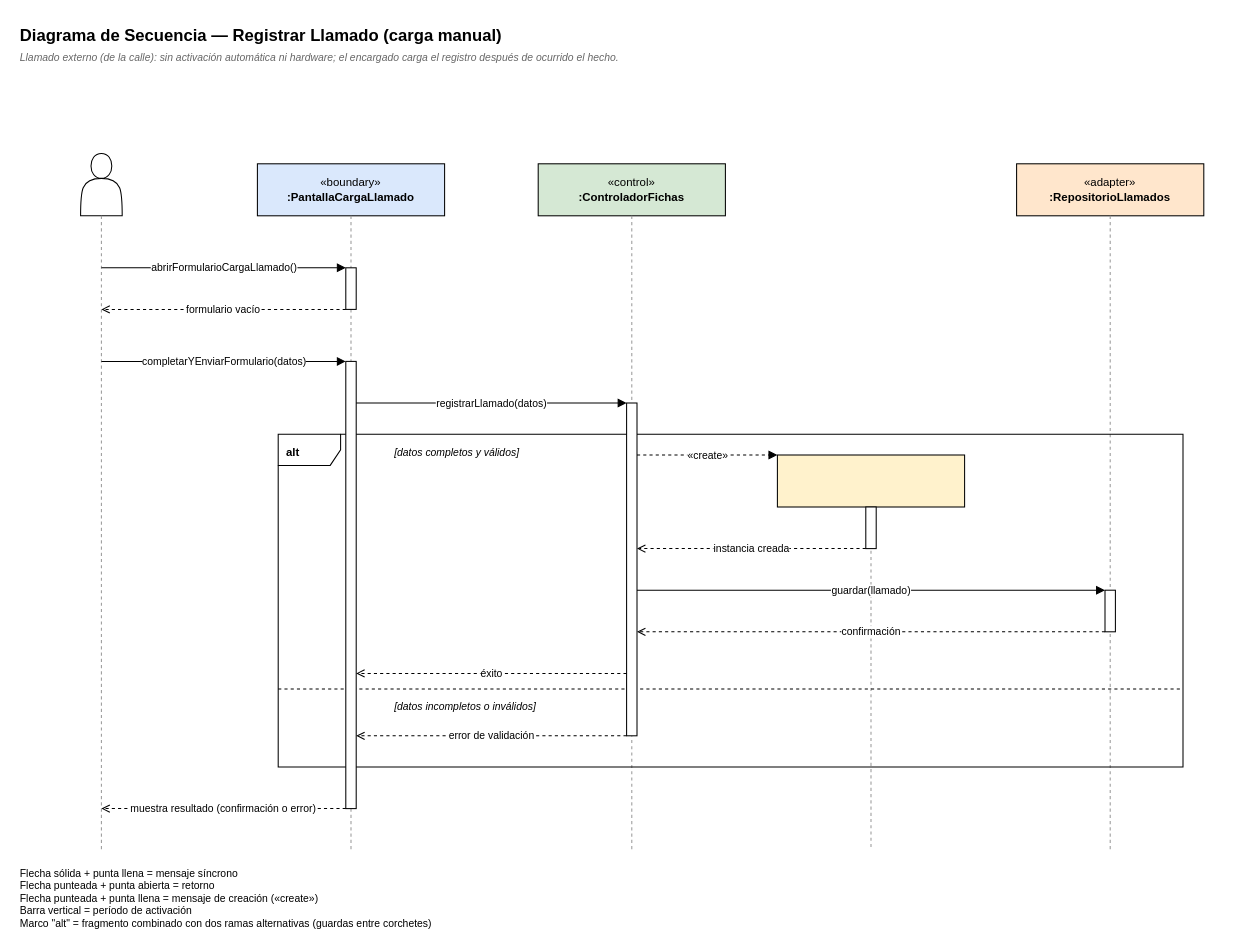
The diagram is 1252 pixels wide and 947 high, and some of its shapes have lost their labels. The shapes that lost their labels are listed below. From the top down, each one's centre as x and y in pixels, then its label:
At point 101,184: ":Encargado de Área".
At point 870,480: "«entity» :Llamado".
